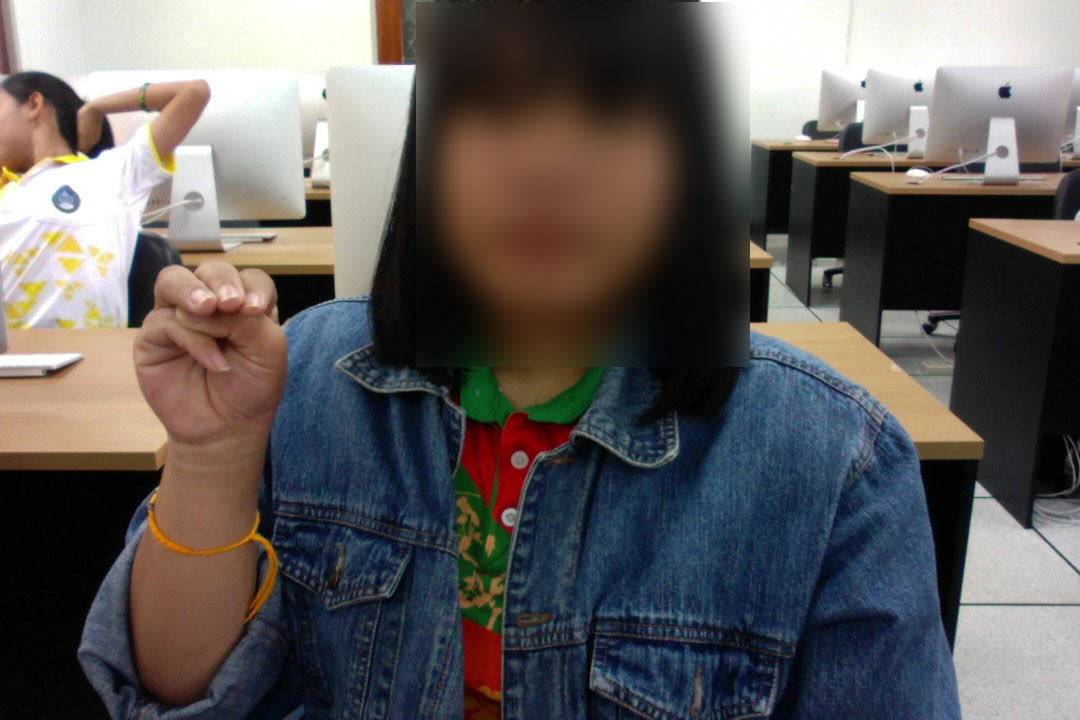mor: (128, 245, 295, 450)
